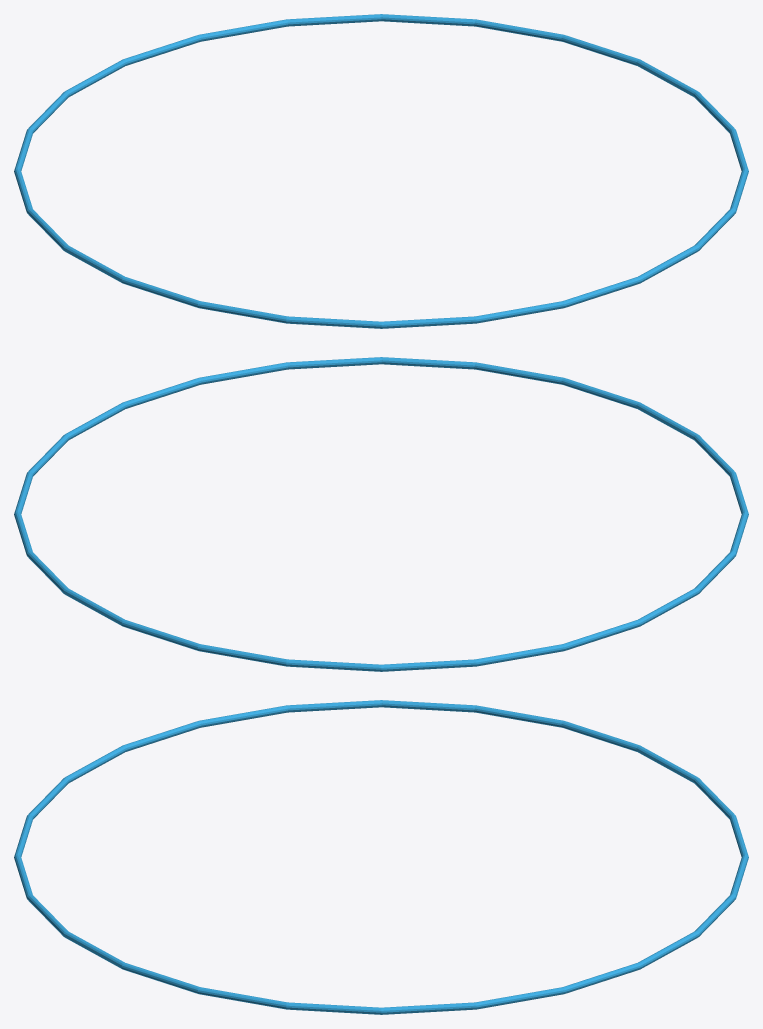
File: hand-opt2_FBX.fbx
The picture shows the model from 3 angles, top to bottom: view 1: azimuth 30°, elevation 25°; view 2: azimuth 150°, elevation 25°; view 3: azimuth 270°, elevation 25°; orthographic projection.
Visible parts, largest first — view 1: Main Ring; view 2: Main Ring; view 3: Main Ring.
Part boxes in pixels (bbox=[...]): Main Ring: bbox=[14, 14, 748, 328]; Main Ring: bbox=[14, 357, 748, 671]; Main Ring: bbox=[14, 700, 748, 1014].
Size of the model in its own units: 202 by 2 by 202.
